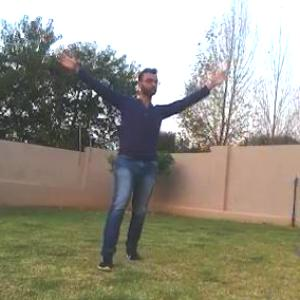takeoff: (54, 38, 229, 273)
